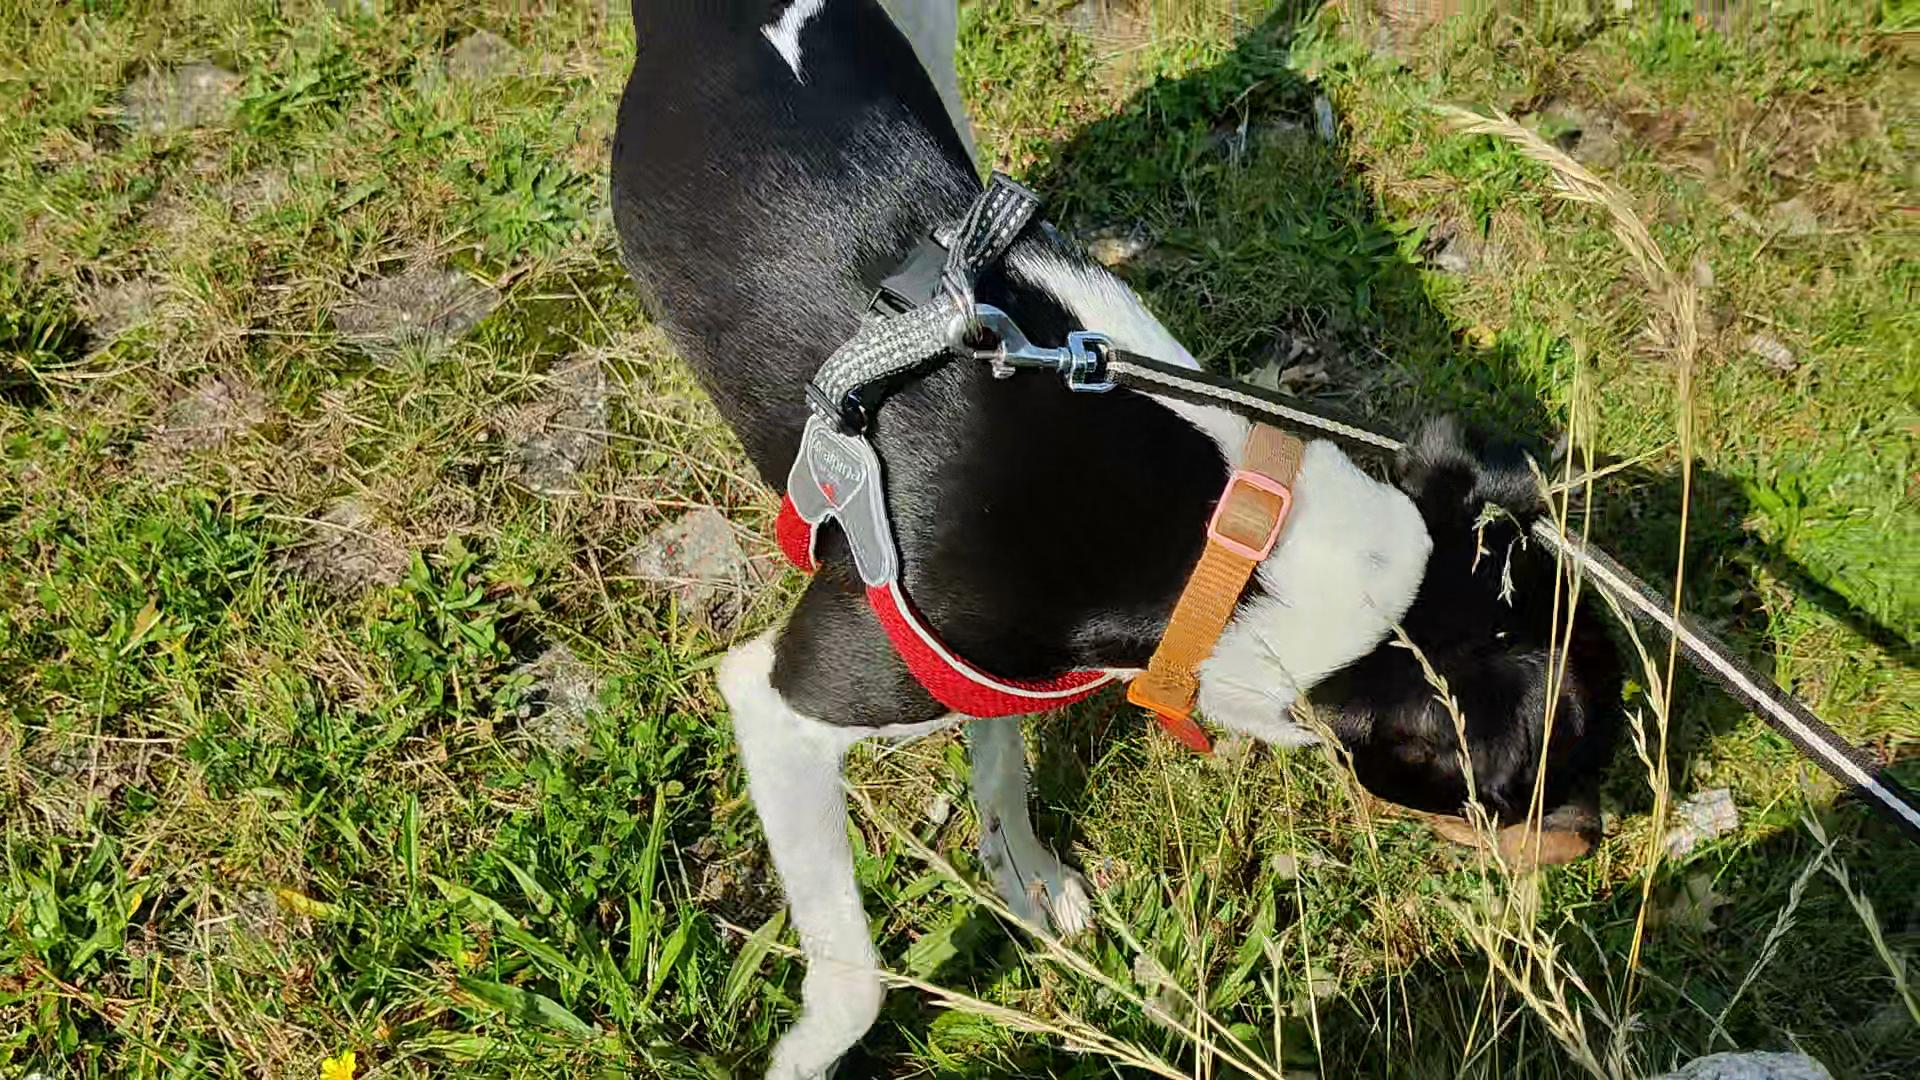Dog: (595, 0, 1629, 1079)
